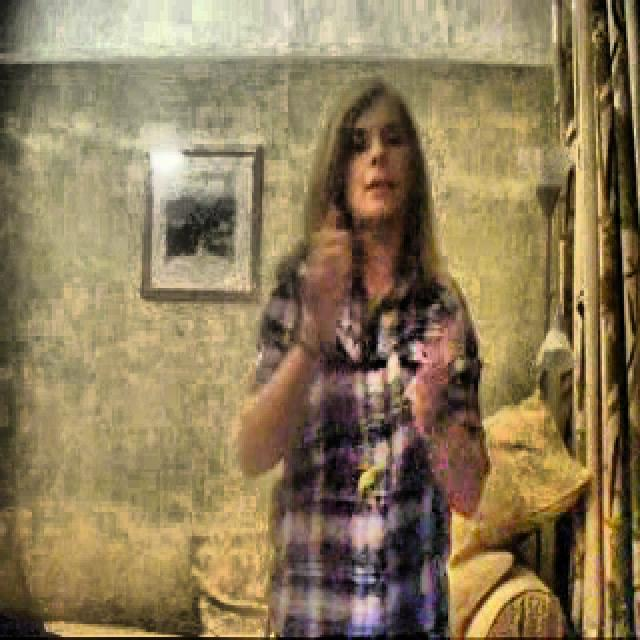F: (244, 79, 488, 639)
